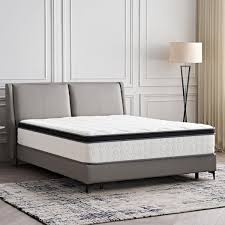bed-matress: (15, 113, 218, 164)
